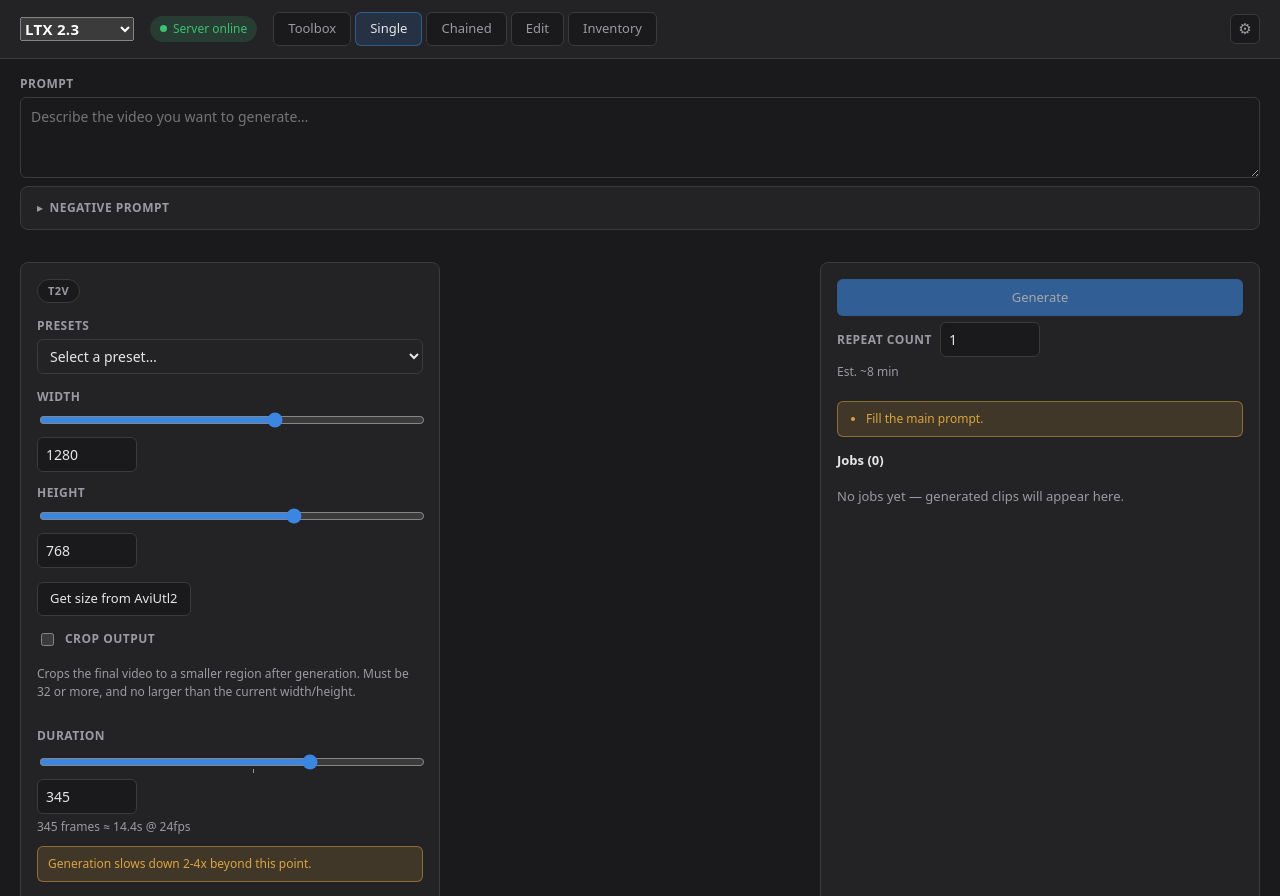
Test: App / §3-54 物体追尾 right-click routing › rounds a fractional keyframe interval — native rejects a fractional stride outright
Expected: the button "Generate" is shown, [837,278,1243,316]
Expected: the text "Server online" is shown, [150,16,257,42]
Click the tab "Toolbox" at point(312, 29), box [273,12,351,46]
(page scrolled)
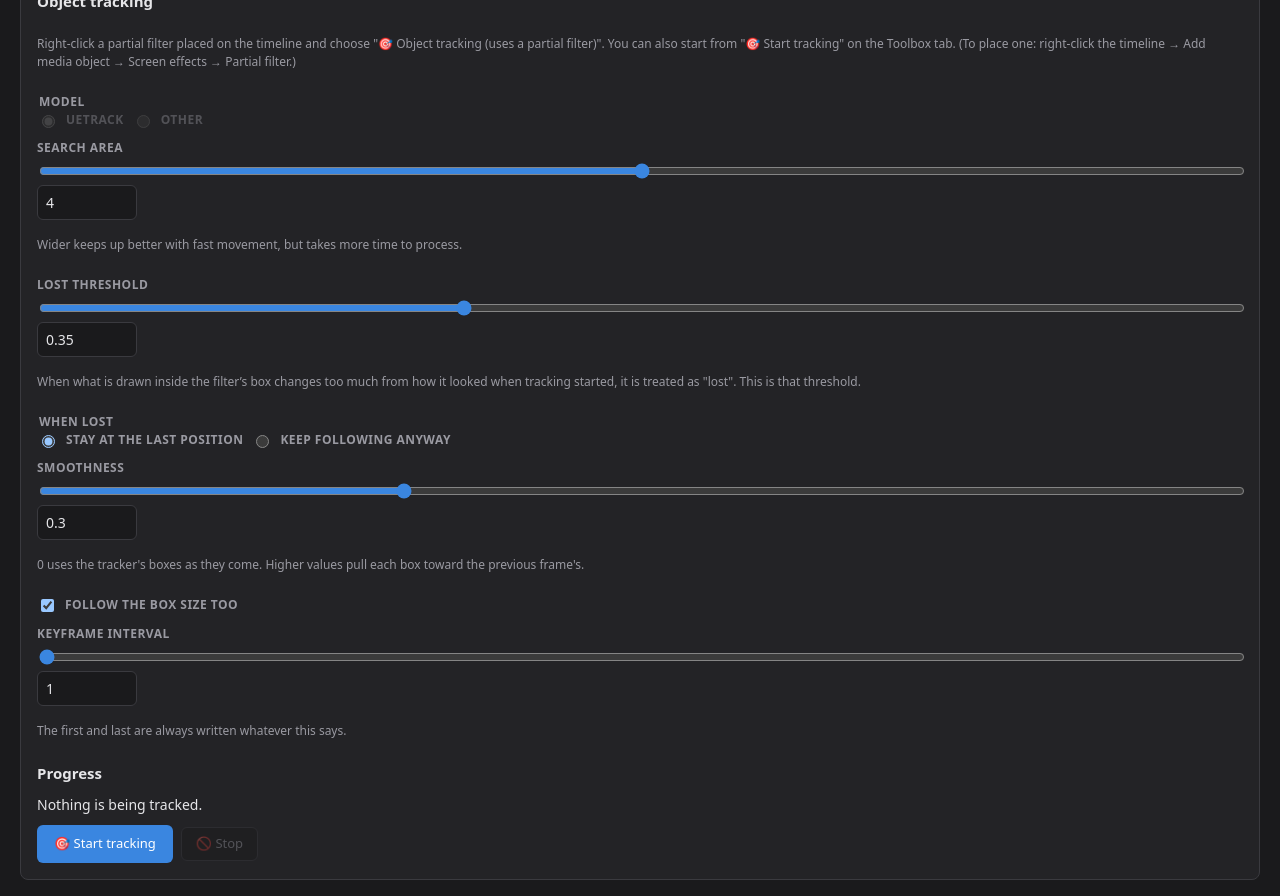
Replace the text in the number field named "keyframe interval" with "1.5" at point(87, 688), box [37,670,137,706]
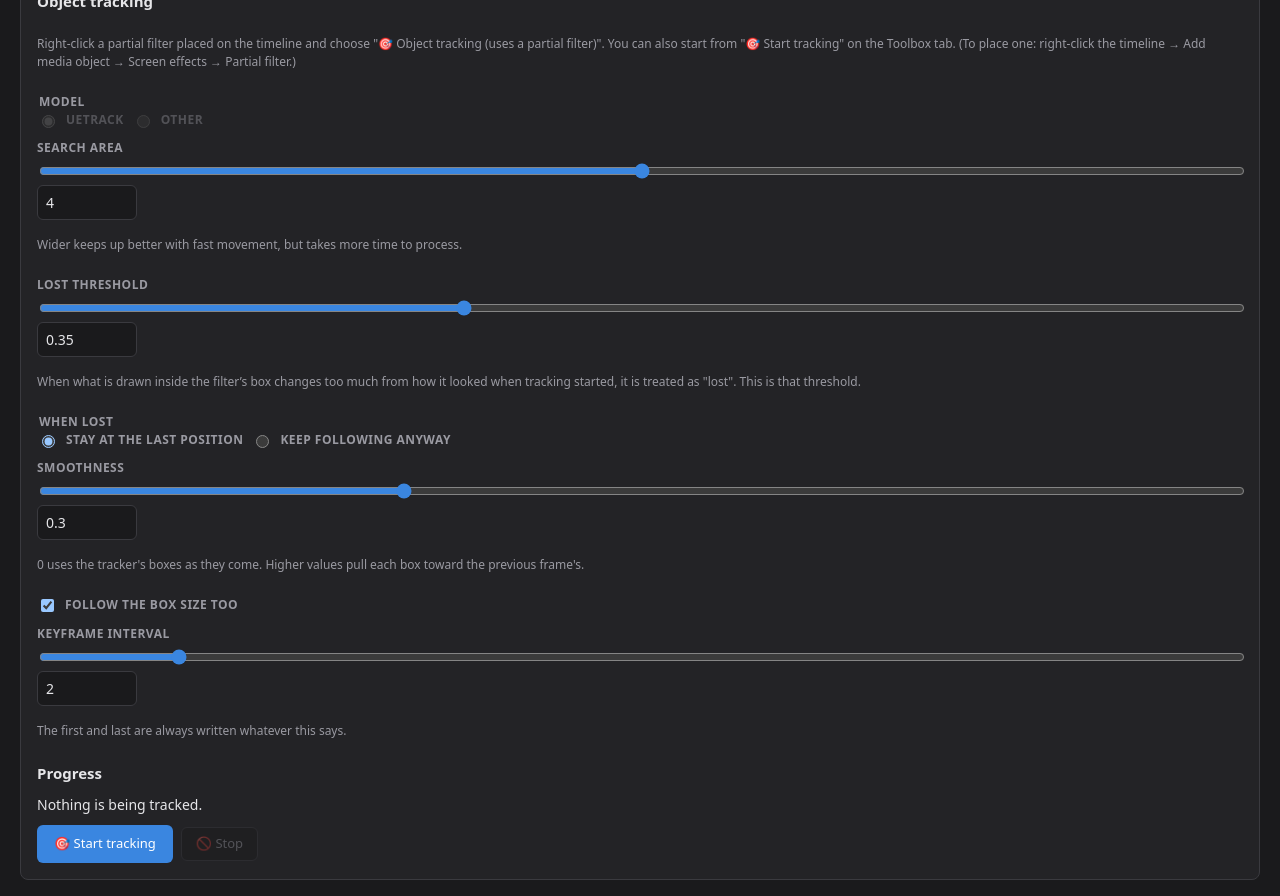
Now the number field named "keyframe interval" holds "2", box [37,670,137,706]
